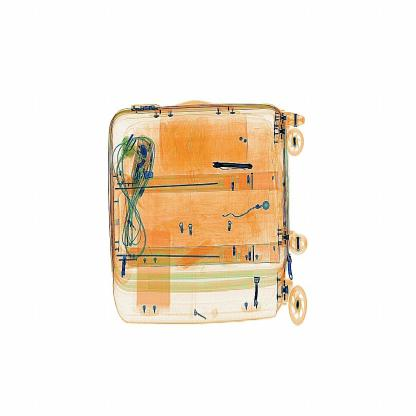knife: (210, 160, 254, 172)
